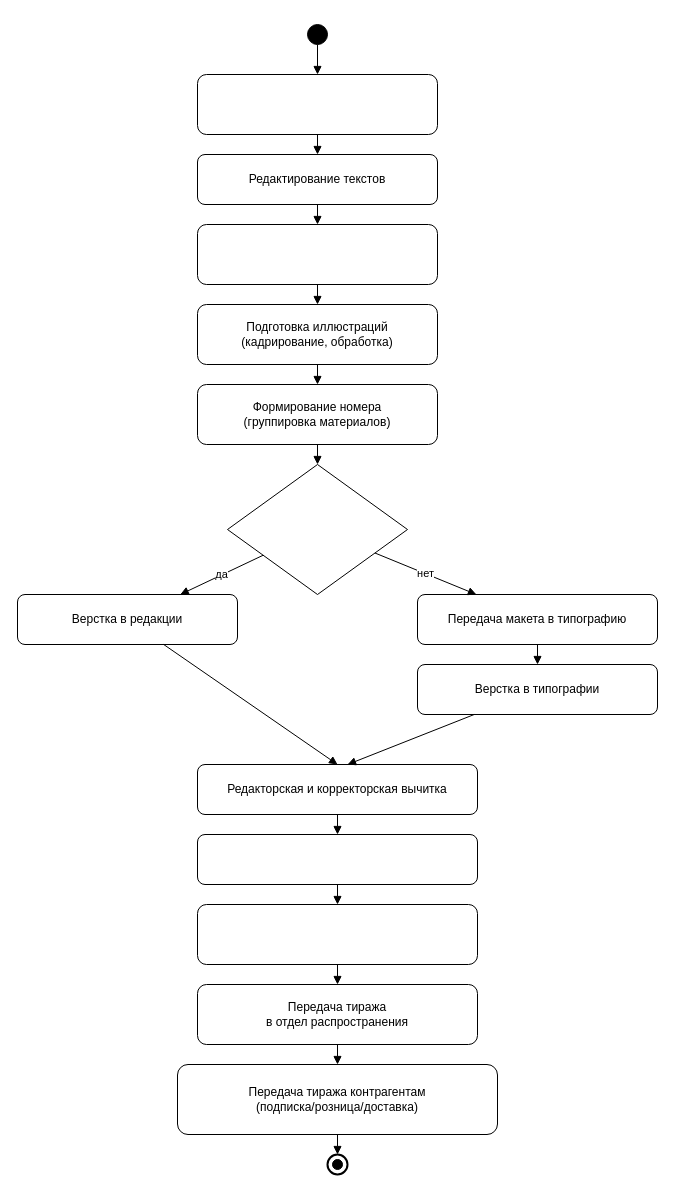
Some shapes in this 675 by 1193 pixel diagram are drawn without their labels. The shapes that lost their labels are listed below. From the top down, each one's box as (x1, y1, x2, y2) in pixels, then its label:
(196, 74, 438, 134): Отбор информации (источники, портфели)
(196, 224, 438, 284): Техническое редактирование (объём, шрифт, формат)
(226, 464, 408, 594): Есть электронная база для современного выпуска?
(196, 834, 478, 884): Подпись полос (главный редактор)
(196, 904, 478, 964): Подготовка печатных форм и печать тиража
